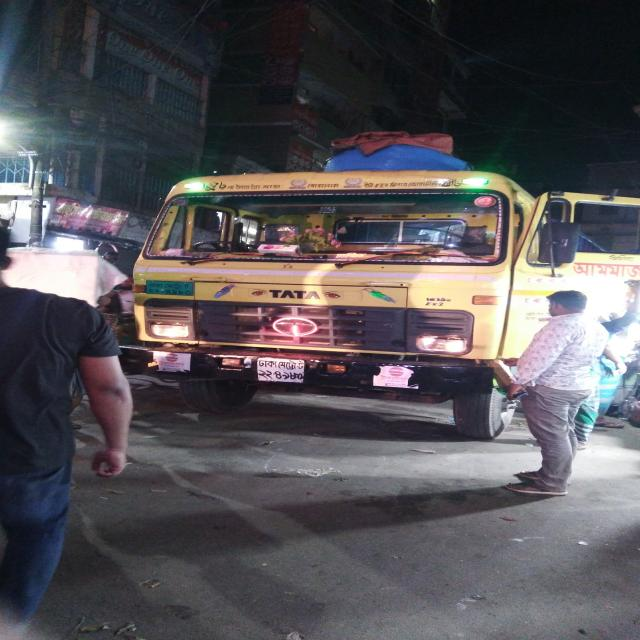truck: (98, 114, 630, 434)
